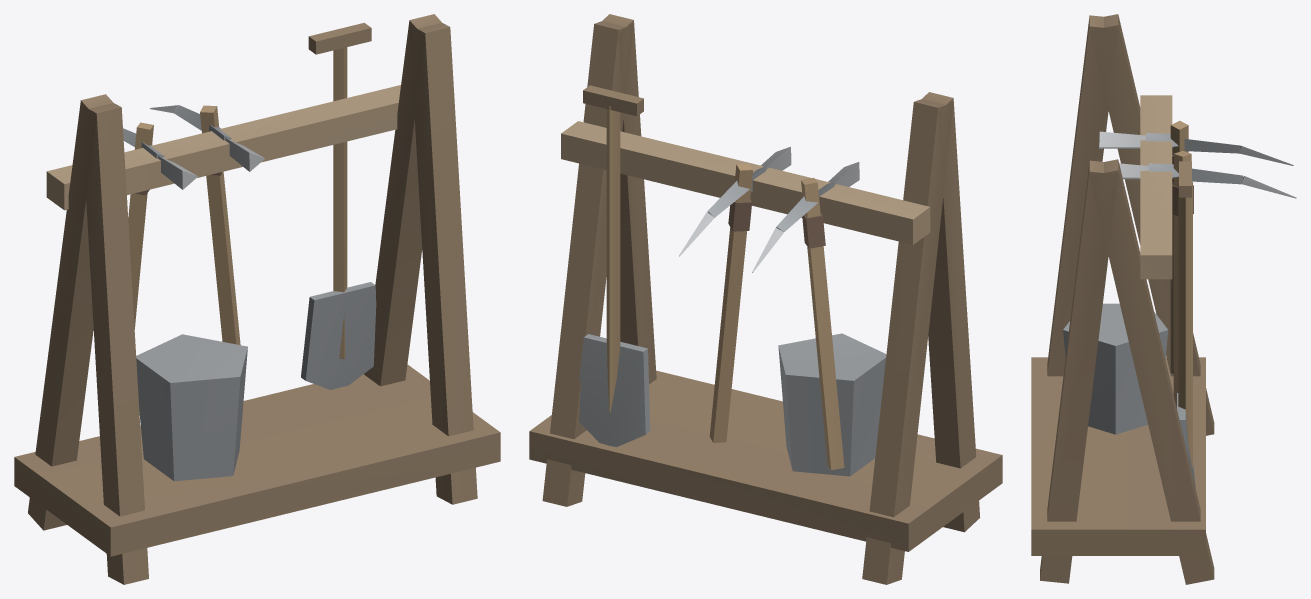
File: tool_rack_low.glb
3 views of the same model, side by side, from view 1: azimuth 30°, elevation 25°; view 2: azimuth 150°, elevation 25°; view 3: azimuth 270°, elevation 25° (orthographic). The views are drawn at different scales.
Visible parts, largest first — view 1: tool_rack; view 2: tool_rack; view 3: tool_rack.
Part boxes in pixels (left/top/right/bottom): tool_rack: left=14, top=14, right=500, bottom=584; tool_rack: left=529, top=14, right=1002, bottom=584; tool_rack: left=1031, top=14, right=1296, bottom=584.
Size of the model in its own units: 1.4 by 1.57 by 0.9117.
